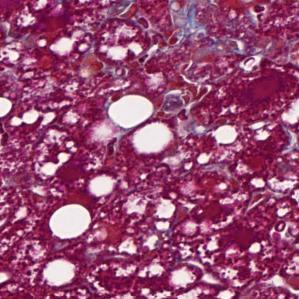steatosis: (50, 204, 94, 242), (108, 95, 156, 129), (132, 125, 177, 158), (39, 255, 77, 289)
